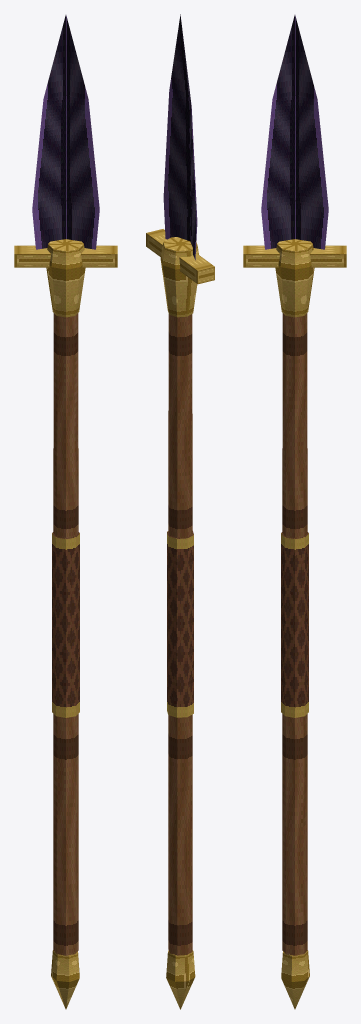
The model's file is lanca_de_obsidiana.glb.
3 renders of one model, left to right at view 1: azimuth 90°, elevation 25°; view 2: azimuth 210°, elevation 25°; view 3: azimuth 270°, elevation 25°, orthographic.
Visible parts, largest first — view 1: lanca_de_obsidiana; view 2: lanca_de_obsidiana; view 3: lanca_de_obsidiana.
Part boxes in pixels (<box>): lanca_de_obsidiana: <box>14,15,117,1009</box>; lanca_de_obsidiana: <box>146,14,214,1009</box>; lanca_de_obsidiana: <box>243,15,346,1009</box>.
Bounding box in the file's own units: 0.088 × 2.34 × 0.22.
1 material, 1 textured.
